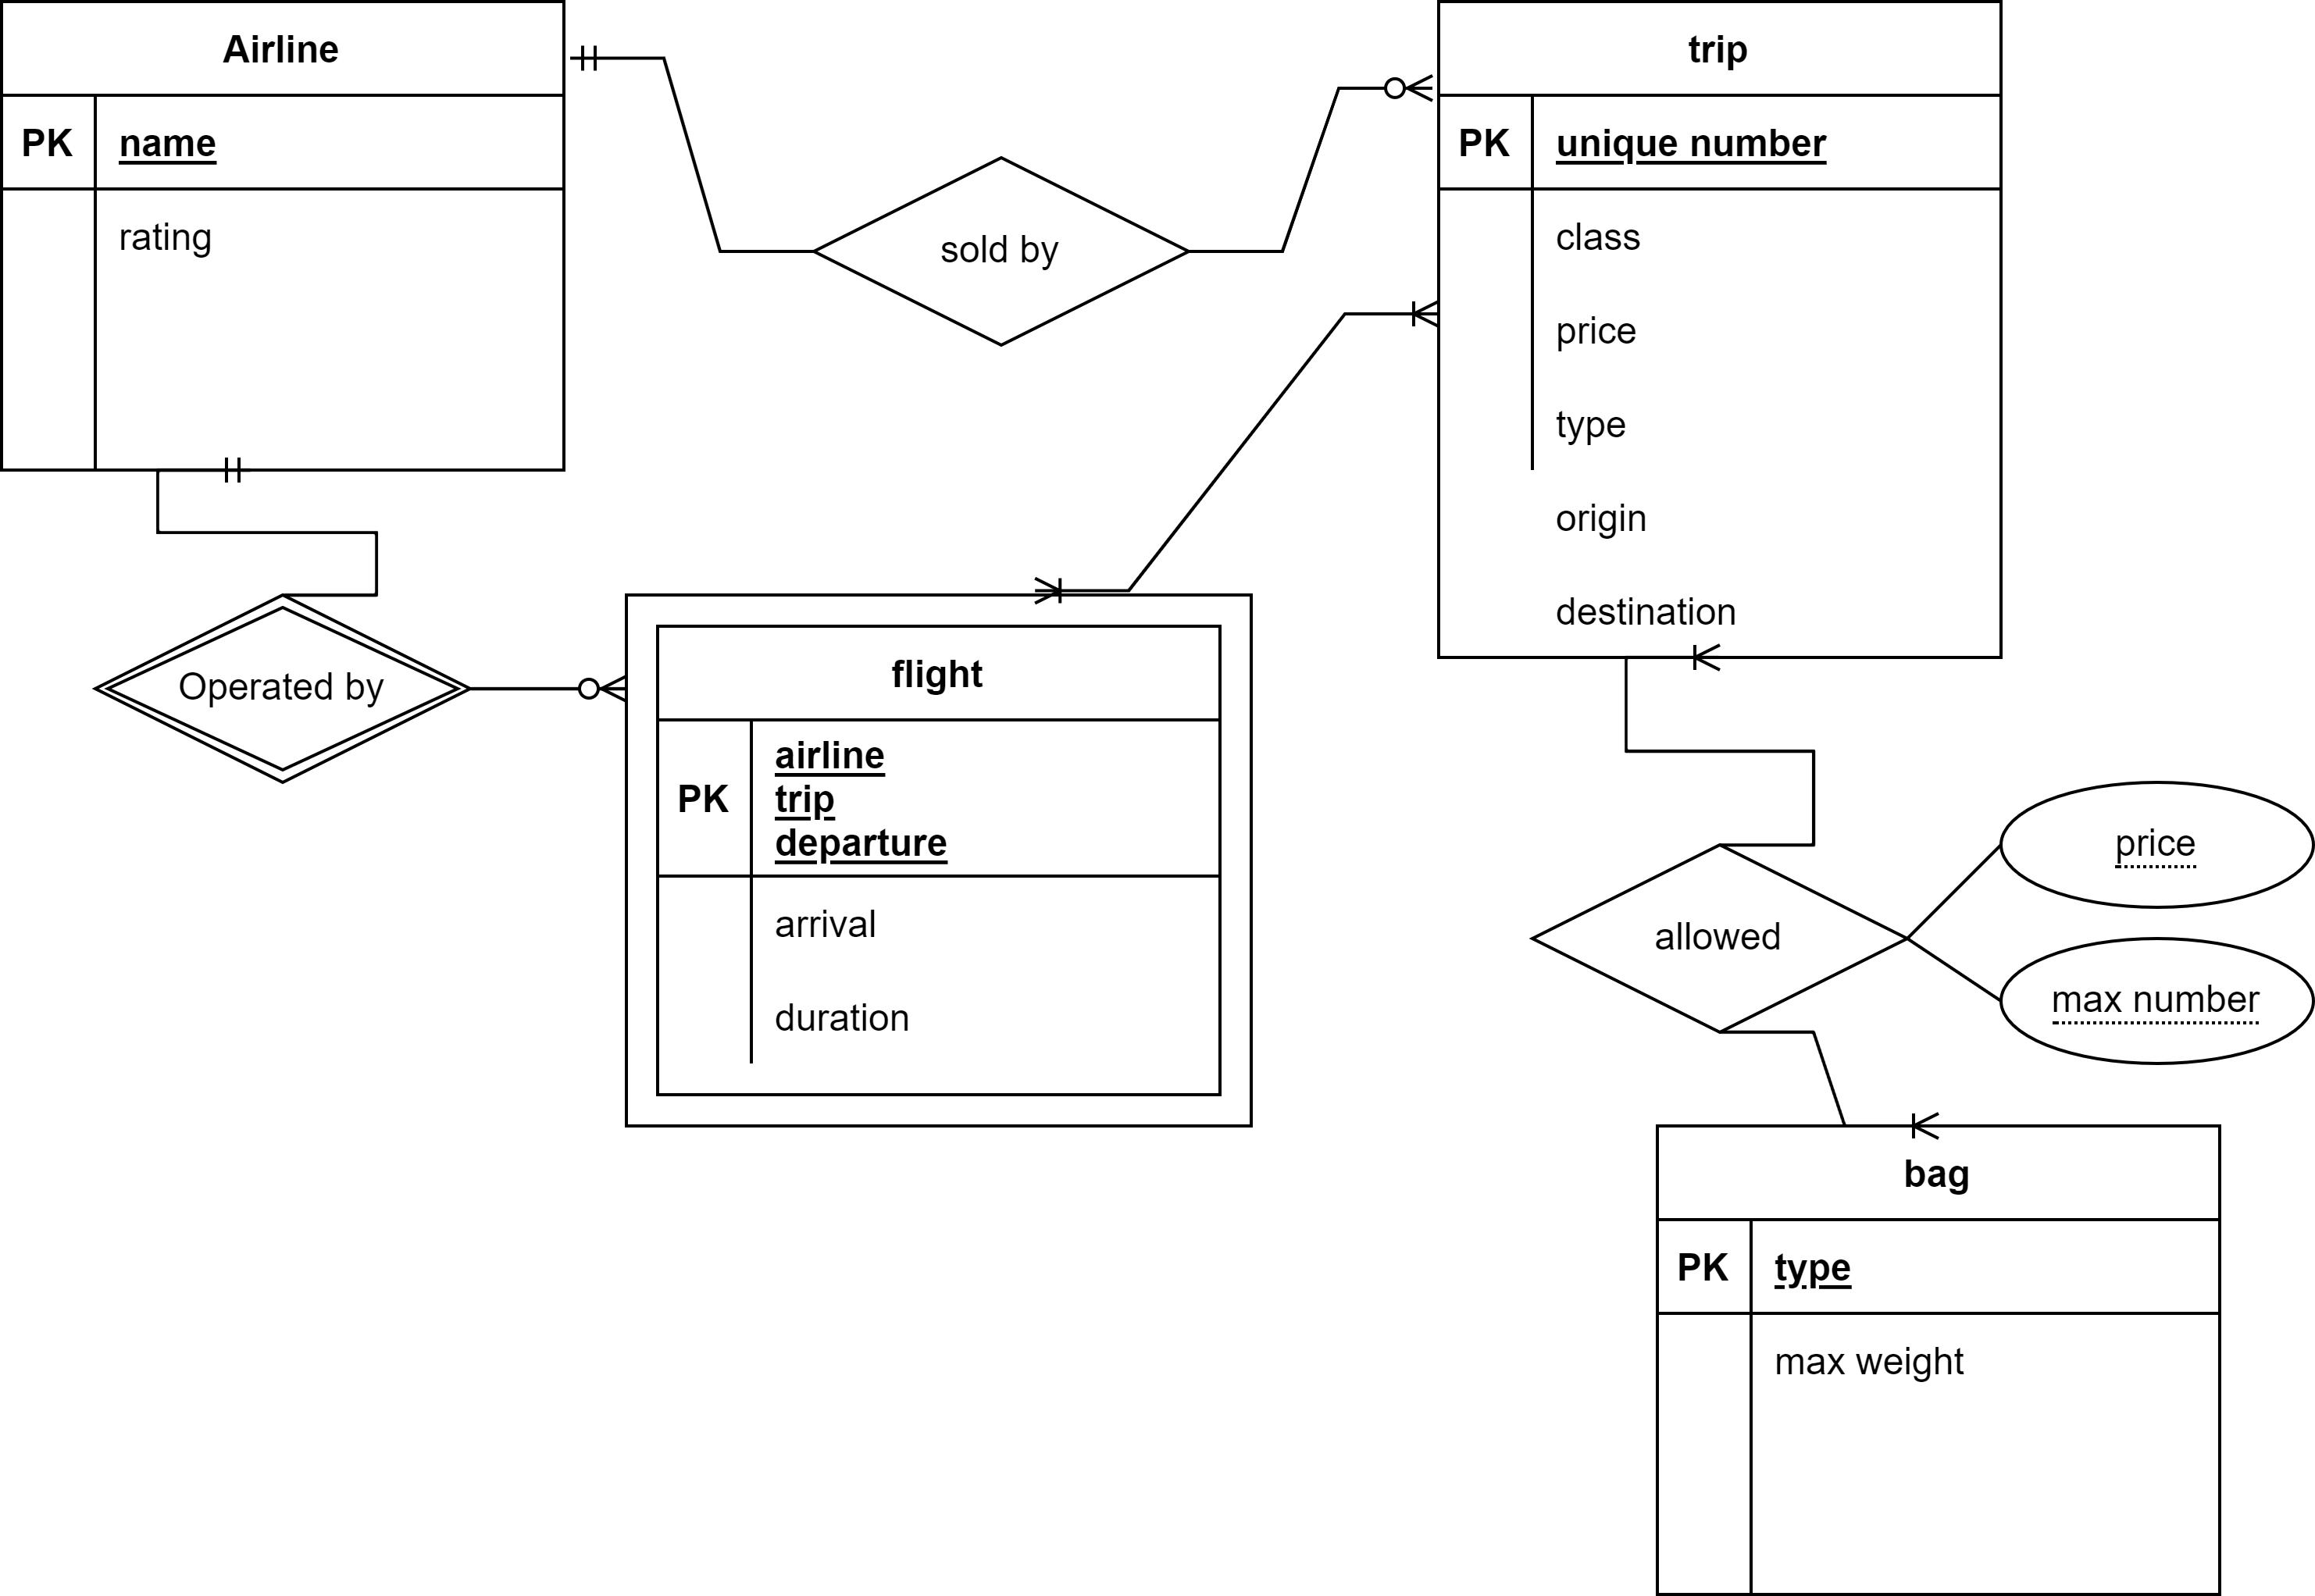attribute: (2005, 782, 2315, 909), (1998, 942, 2315, 1060)
entity: (1432, 0, 2011, 668), (1652, 1118, 2231, 1596), (0, 0, 573, 475)
relationship: (816, 158, 1187, 350), (1536, 840, 1903, 1028)
weakentity: (619, 585, 1256, 1139)
weakrelationship: (97, 594, 468, 789)
